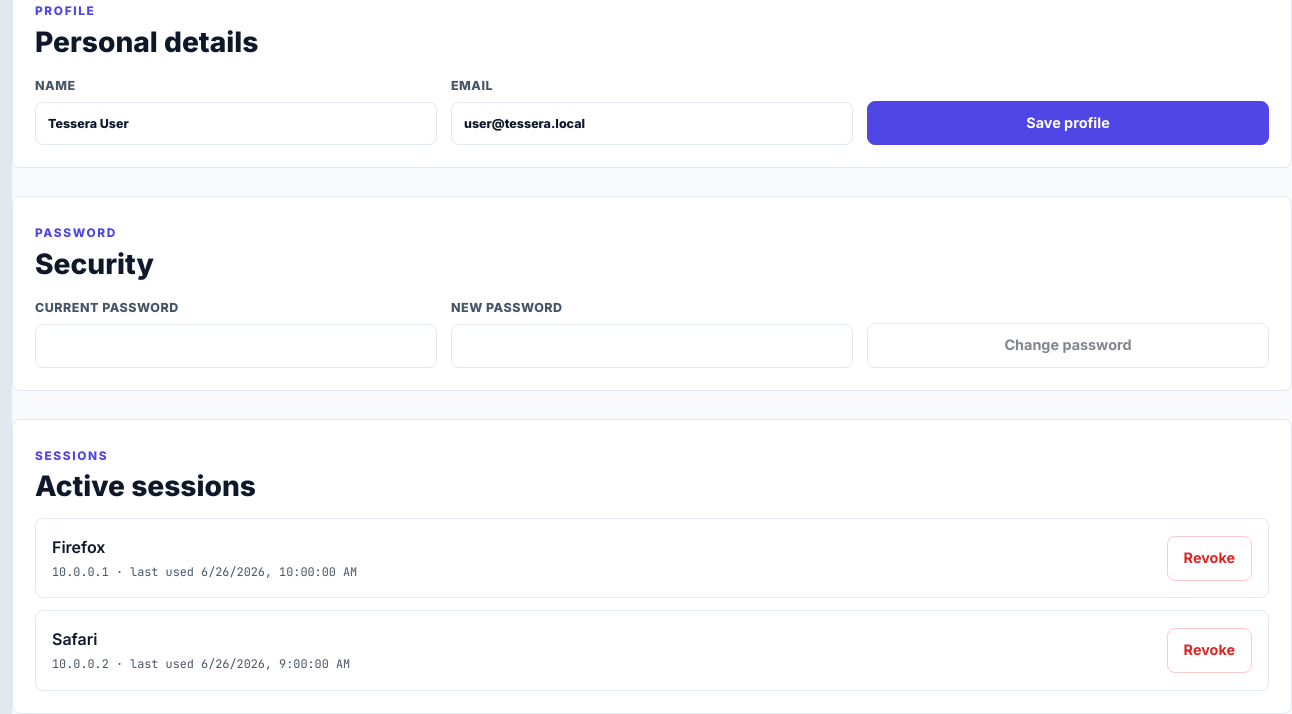
Test: Account › lists active sessions and revokes one
(page scrolled)
Expected: the text "Firefox" is shown, [52, 537, 105, 557]
Expected: the text "Safari" is shown, [52, 629, 97, 649]
Click the button "Revoke" in the row of "Safari".
click(1209, 650)  # box [1167, 628, 1252, 673]
(page scrolled)
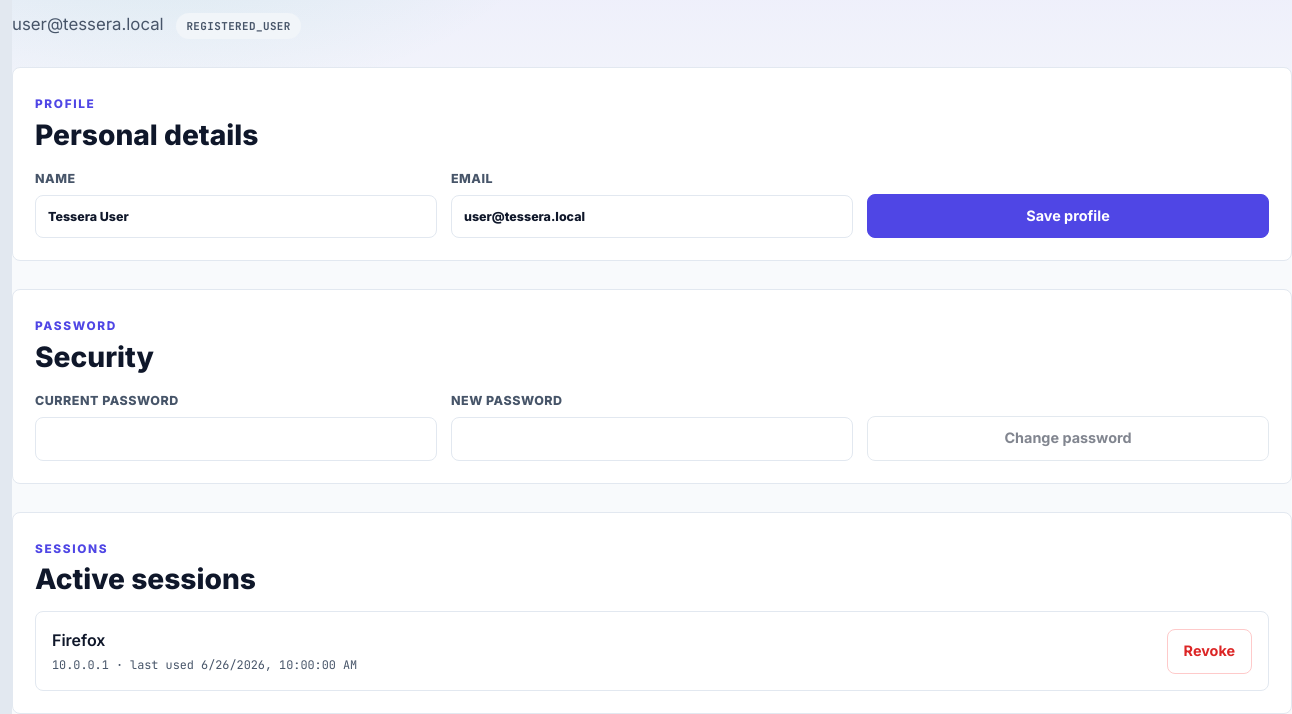
Expected: the text "Firefox" is shown, [52, 630, 105, 650]
Expected: the text "Safari" is gone
